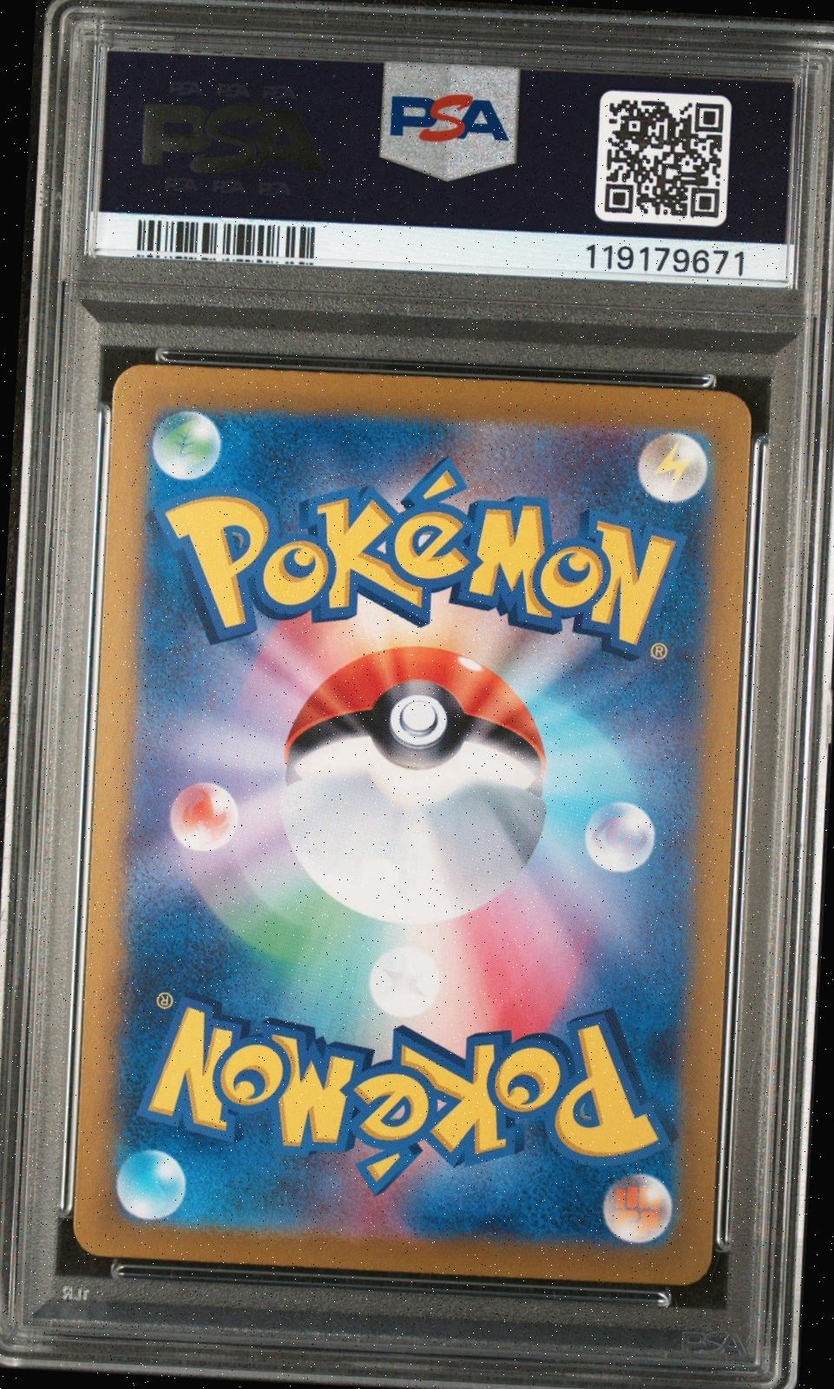card-2UtV: (71, 363, 753, 1287)
